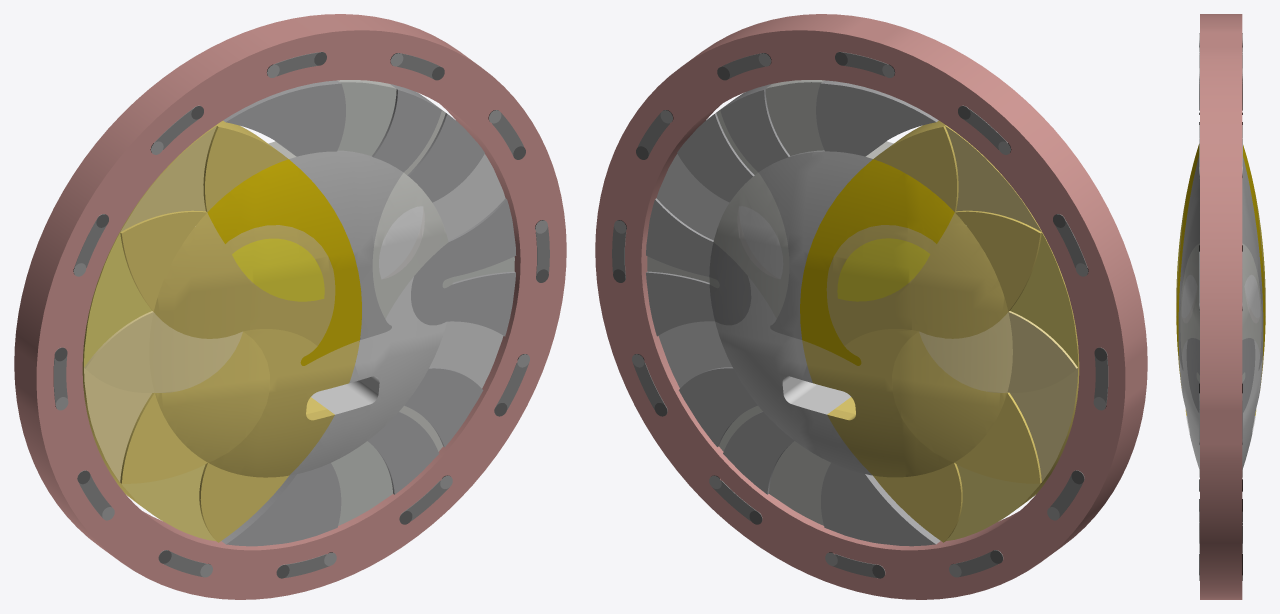
The model's file is sunmoonstar2025b.glb.
3 views of the same model, side by side, from view 1: azimuth 30°, elevation 25°; view 2: azimuth 150°, elevation 25°; view 3: azimuth 270°, elevation 25° (orthographic). The views are drawn at different scales.
Visible parts, largest first — view 1: Group3, Group2, Group1; view 2: Group3, Group2, Group1; view 3: Group3, Group1, Group2.
Boxes of the visible parts, <box> form: Group3: <box>14,14,566,599</box>; Group2: <box>82,120,361,542</box>; Group1: <box>221,80,516,546</box>; Group3: <box>595,14,1147,599</box>; Group2: <box>800,120,1079,542</box>; Group1: <box>646,80,940,546</box>; Group3: <box>1199,14,1242,599</box>; Group1: <box>1178,155,1263,470</box>; Group2: <box>1176,144,1265,415</box>.
Size of the model in its own units: 333 by 333 by 50.99.
